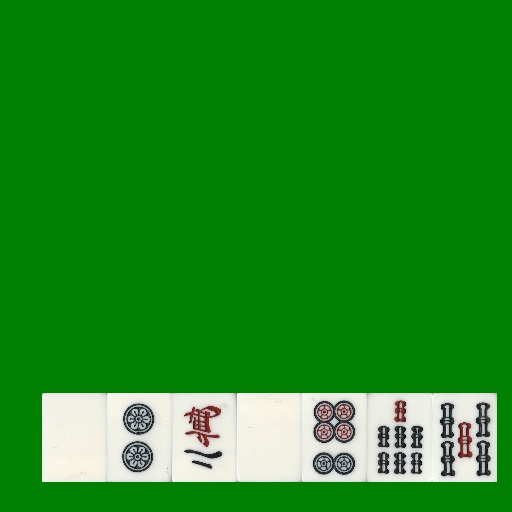2m: (172, 393, 237, 482)
2p: (107, 393, 172, 482)
5s: (432, 393, 497, 482)
6p: (302, 393, 367, 482)
7s: (367, 393, 432, 482)
white: (42, 393, 107, 482), (237, 393, 302, 482)
